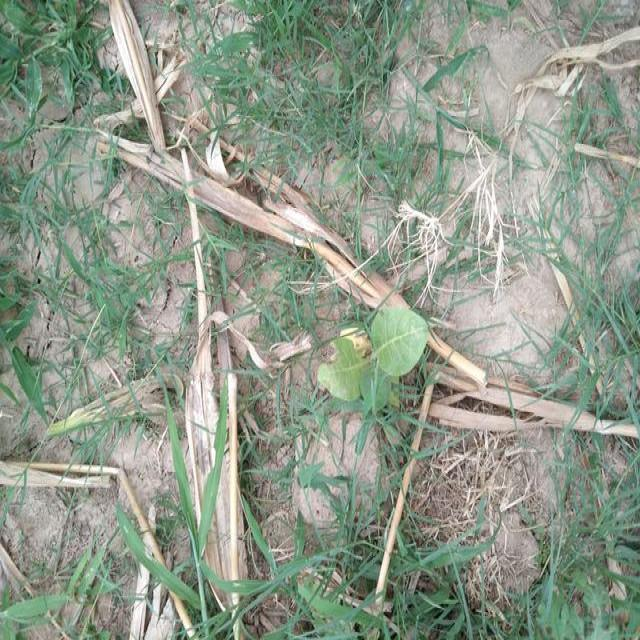crop: (304, 291, 438, 402)
